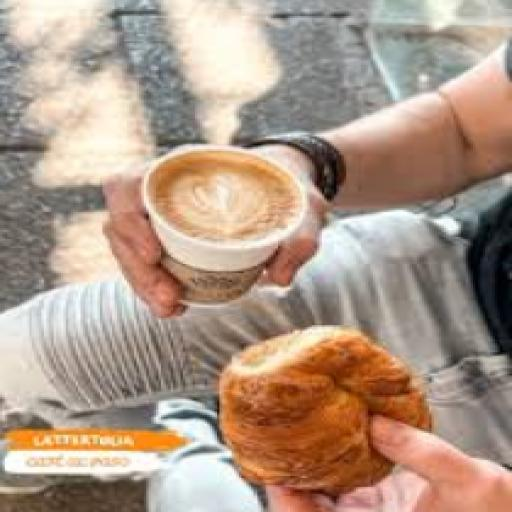bolleria: (220, 326, 431, 495)
